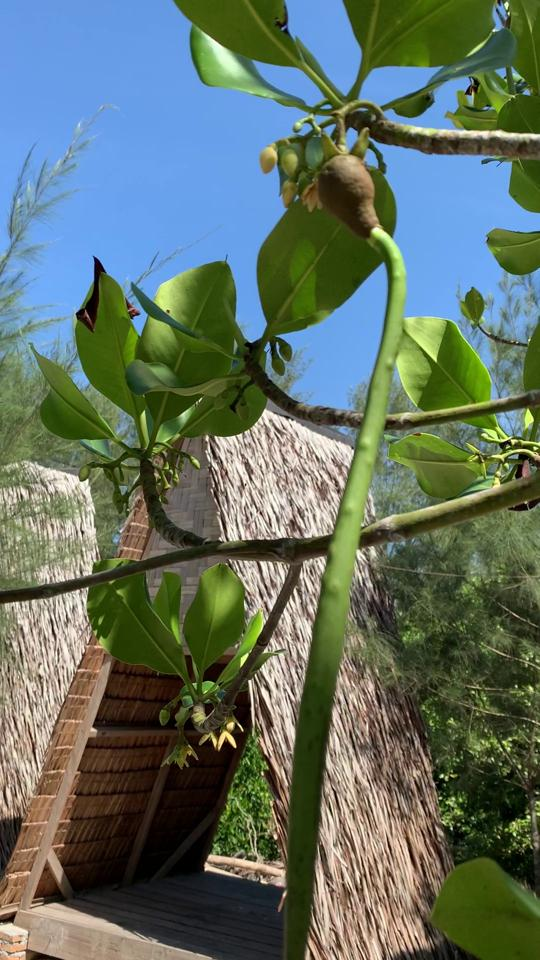setengah matang: (269, 123, 414, 955)
